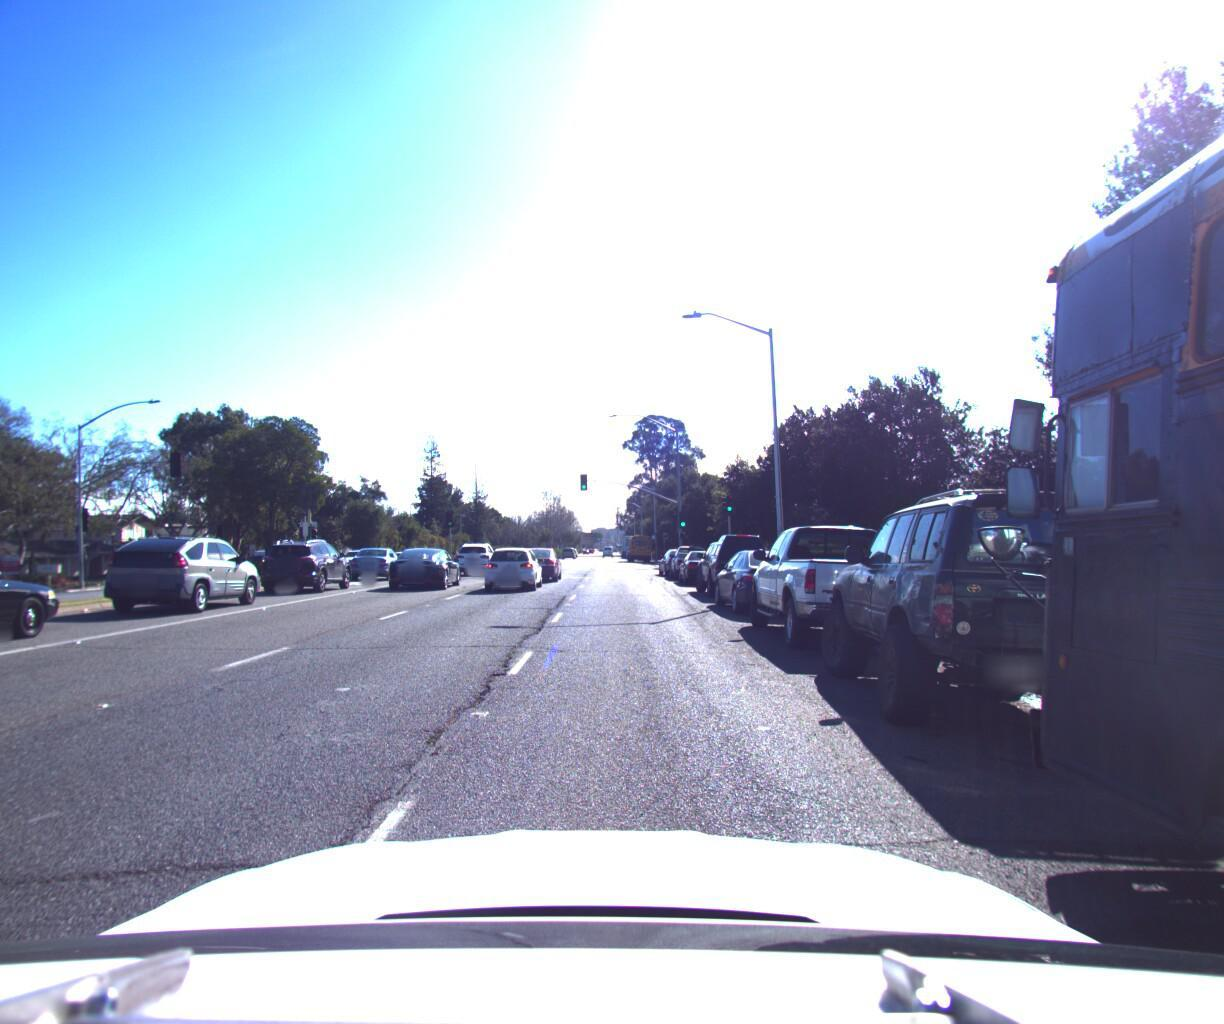car: (810, 467, 1195, 762), (740, 507, 956, 655), (82, 522, 272, 617), (705, 537, 827, 613), (252, 532, 358, 590), (692, 522, 777, 593), (384, 537, 463, 586), (481, 532, 545, 581), (675, 539, 731, 580), (448, 528, 500, 566), (511, 536, 564, 574), (668, 534, 717, 574), (348, 537, 402, 573), (655, 536, 703, 568)
